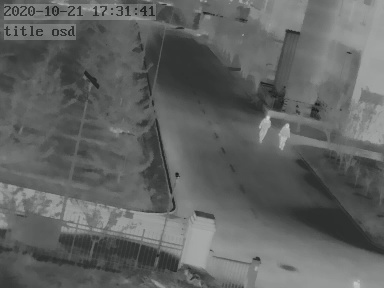person: (257, 114, 270, 143), (278, 122, 291, 150)
